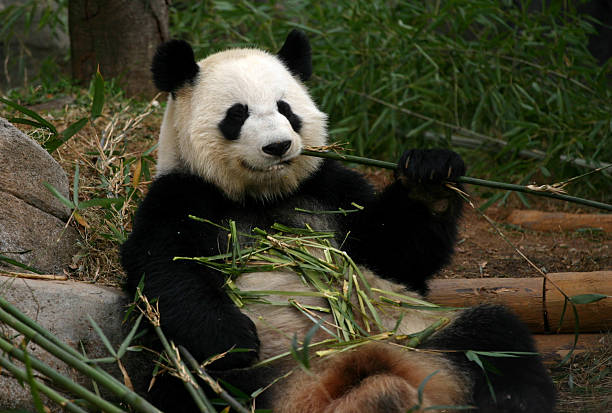panda: (120, 26, 342, 214)
